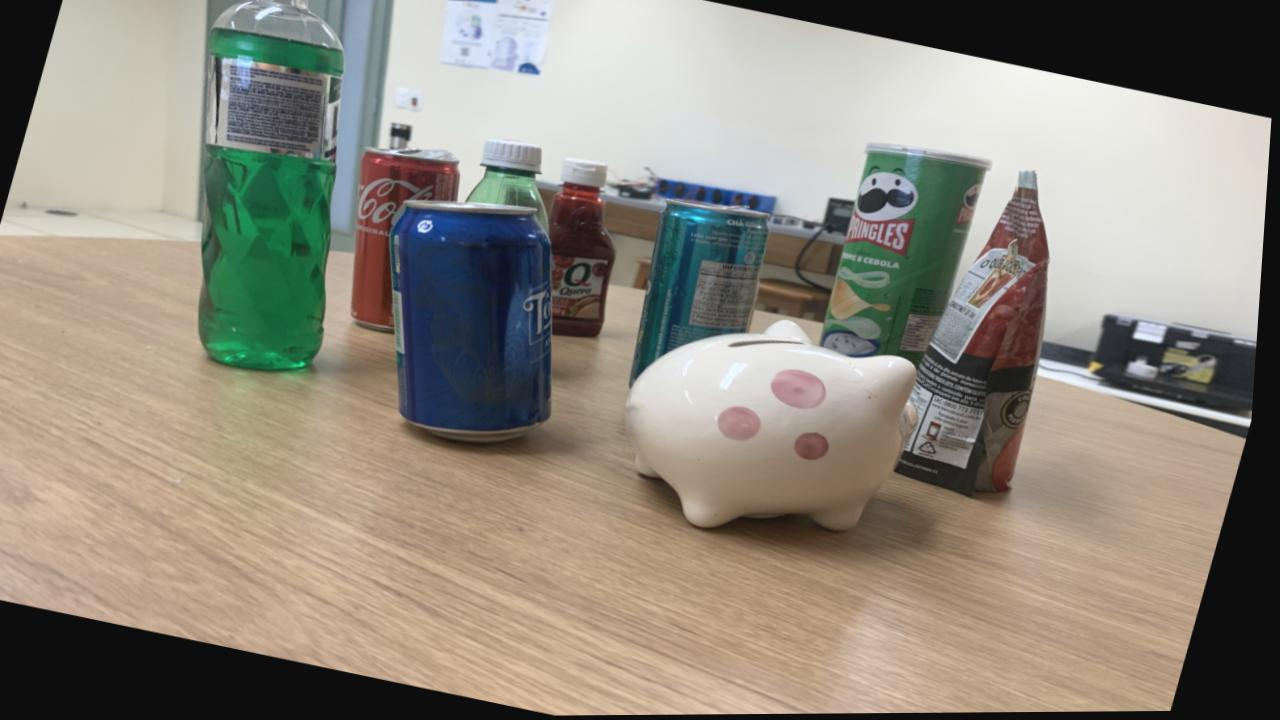Coke-Drinks: (354, 148, 462, 332)
Detergent-Cleanup_Items: (202, 0, 345, 371)
Guarana-Drinks: (468, 139, 552, 231)
Ketchup-Pantry_Items: (551, 158, 620, 338)
Pig_Safe-Miscellaneous: (630, 321, 922, 532)
Pringles-Snacks: (826, 144, 994, 367)
Tea-Drinks: (634, 199, 772, 384)
Tomato_Sauce-Pantry_Items: (902, 173, 1053, 496)
Tonic-Drinks: (393, 200, 557, 443)
